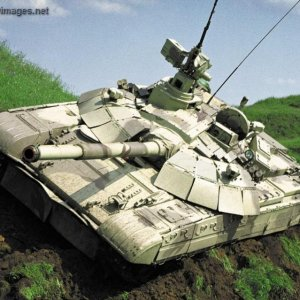Battle Tank: (8, 59, 300, 262)
